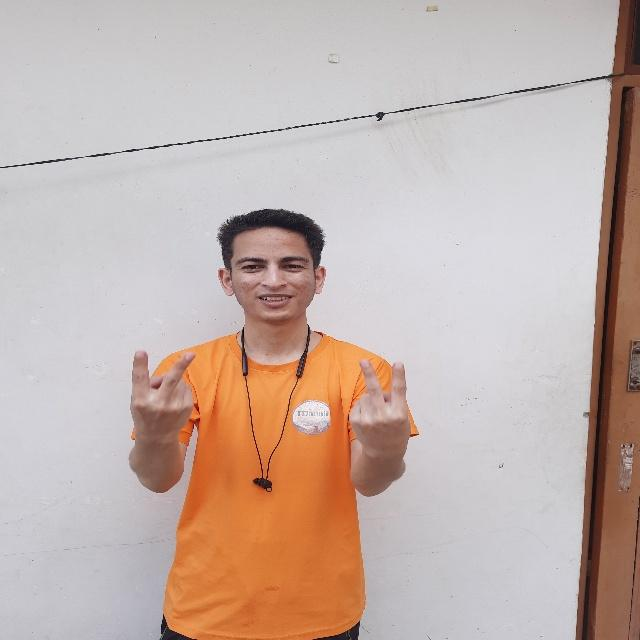Reversed Victory: (342, 349, 416, 463), (122, 339, 200, 446)
